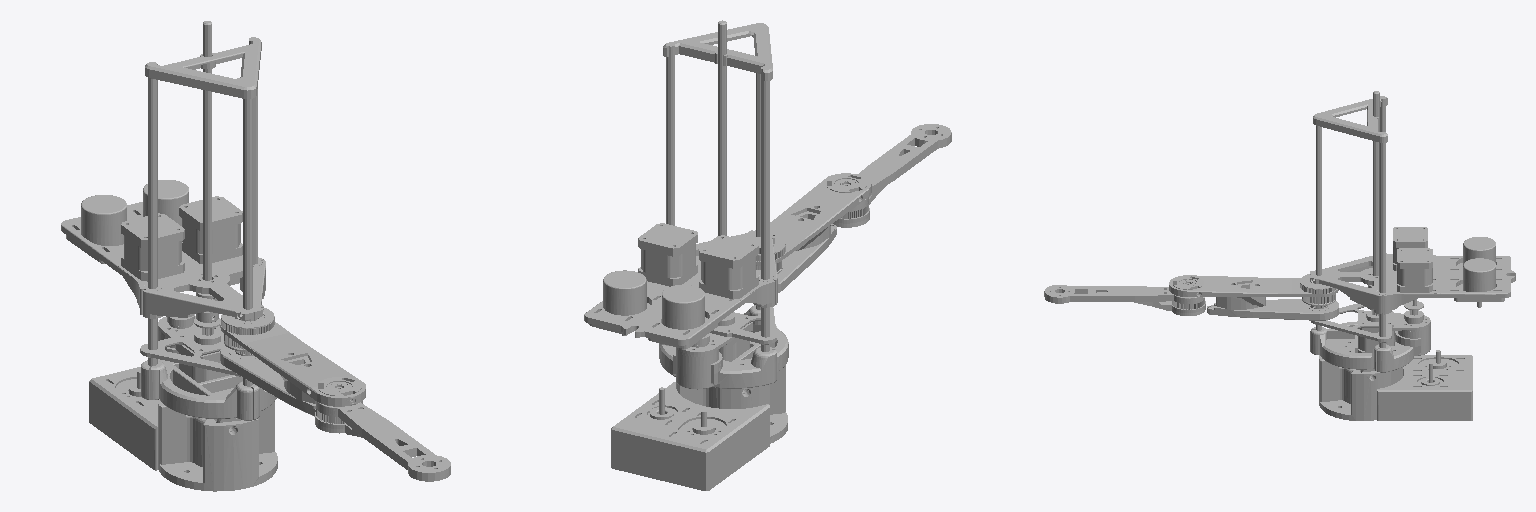
The robot description file, URDF, robot "scara4":
<?xml version="1.0" encoding="utf-8"?>
<!-- This URDF was automatically created by SolidWorks to URDF Exporter! Originally created by [author] ([email redacted]) 
     Commit Version: 1.6.0-1-g15f4949  Build Version: 1.6.7594.29634
     For more information, please see http://wiki.ros.org/sw_urdf_exporter -->
<robot
  name="scara4">
  <link
    name="link1">
    <inertial>
      <origin
        xyz="0.00134256641145745 0.0268120790873557 -0.0397924813753879"
        rpy="0 0 0" />
      <mass
        value="0.333965027627055" />
      <inertia
        ixx="0.00024437961424315"
        ixy="-2.70691571933329E-07"
        ixz="6.65938217240934E-07"
        iyy="0.000362442658167423"
        iyz="3.14489465239985E-07"
        izz="0.000246720965790898" />
    </inertial>
    <visual>
      <origin
        xyz="0 0 0"
        rpy="0 0 0" />
      <geometry>
        <mesh
          filename="package://scara4/meshes/link1.STL" />
      </geometry>
      <material
        name="">
        <color
          rgba="0.752941176470588 0.752941176470588 0.752941176470588 1" />
      </material>
    </visual>
    <collision>
      <origin
        xyz="0 0 0"
        rpy="0 0 0" />
      <geometry>
        <mesh
          filename="package://scara4/meshes/link1.STL" />
      </geometry>
    </collision>
  </link>
  <link
    name="link2">
    <inertial>
      <origin
        xyz="0.000219070401410481 0.082554065645283 0.0156932502112004"
        rpy="0 0 0" />
      <mass
        value="0.341833276422222" />
      <inertia
        ixx="0.000601222703206643"
        ixy="-2.75837561186006E-07"
        ixz="5.92153662104969E-07"
        iyy="0.000316649240889944"
        iyz="-2.03450902493644E-06"
        izz="0.00060053198390385" />
    </inertial>
    <visual>
      <origin
        xyz="0 0 0"
        rpy="0 0 0" />
      <geometry>
        <mesh
          filename="package://scara4/meshes/link2.STL" />
      </geometry>
      <material
        name="">
        <color
          rgba="0.752941176470588 0.752941176470588 0.752941176470588 1" />
      </material>
    </visual>
    <collision>
      <origin
        xyz="0 0 0"
        rpy="0 0 0" />
      <geometry>
        <mesh
          filename="package://scara4/meshes/link2.STL" />
      </geometry>
    </collision>
  </link>
  <joint
    name="joint1"
    type="continuous">
    <origin
      xyz="0 0 0.0408"
      rpy="1.5708 0 3.1416" />
    <parent
      link="link1" />
    <child
      link="link2" />
    <axis
      xyz="0 1 0" />
  </joint>
  <link
    name="link3">
    <inertial>
      <origin
        xyz="-0.000113401252194737 0.0339295858638425 0.0633738369323234"
        rpy="0 0 0" />
      <mass
        value="0.349496704950288" />
      <inertia
        ixx="0.000408165235585055"
        ixy="-5.40308089541596E-07"
        ixz="-1.79850928558629E-06"
        iyy="0.000539133104321668"
        iyz="-8.69432622399406E-06"
        izz="0.000156212046475738" />
    </inertial>
    <visual>
      <origin
        xyz="0 0 0"
        rpy="0 0 0" />
      <geometry>
        <mesh
          filename="package://scara4/meshes/link3.STL" />
      </geometry>
      <material
        name="">
        <color
          rgba="0.752941176470588 0.752941176470588 0.752941176470588 1" />
      </material>
    </visual>
    <collision>
      <origin
        xyz="0 0 0"
        rpy="0 0 0" />
      <geometry>
        <mesh
          filename="package://scara4/meshes/link3.STL" />
      </geometry>
    </collision>
  </link>
  <joint
    name="joint2"
    type="prismatic">
    <origin
      xyz="-4.5017E-05 0.097592 0.017"
      rpy="0 0 0" />
    <parent
      link="link2" />
    <child
      link="link3" />
    <axis
      xyz="0 1 0" />
    <limit
      lower="0"
      upper="0"
      effort="0"
      velocity="0" />
  </joint>
  <link
    name="link4">
    <inertial>
      <origin
        xyz="3.62903793402024E-05 -0.000974279847565318 -0.0572628879918167"
        rpy="0 0 0" />
      <mass
        value="0.132586780122943" />
      <inertia
        ixx="0.000228708978235185"
        ixy="-2.42790930369713E-10"
        ixz="3.85879878036558E-09"
        iyy="0.000238850149148551"
        iyz="9.39543532374007E-06"
        izz="2.12648166568431E-05" />
    </inertial>
    <visual>
      <origin
        xyz="0 0 0"
        rpy="0 0 0" />
      <geometry>
        <mesh
          filename="package://scara4/meshes/link4.STL" />
      </geometry>
      <material
        name="">
        <color
          rgba="0.752941176470588 0.752941176470588 0.752941176470588 1" />
      </material>
    </visual>
    <collision>
      <origin
        xyz="0 0 0"
        rpy="0 0 0" />
      <geometry>
        <mesh
          filename="package://scara4/meshes/link4.STL" />
      </geometry>
    </collision>
  </link>
  <joint
    name="joint3"
    type="continuous">
    <origin
      xyz="4.5017E-05 0 -0.067"
      rpy="0 0 0" />
    <parent
      link="link3" />
    <child
      link="link4" />
    <axis
      xyz="0 1 0" />
  </joint>
  <link
    name="link5">
    <inertial>
      <origin
        xyz="-2.31815511669881E-05 -0.00188155161511602 0.0470091350705414"
        rpy="0 0 0" />
      <mass
        value="0.0592642341472502" />
      <inertia
        ixx="6.54622289057525E-05"
        ixy="-1.36790778528406E-10"
        ixz="-5.80273254623293E-10"
        iyy="6.84736651755936E-05"
        iyz="-1.66089791588376E-06"
        izz="6.61596593344095E-06" />
    </inertial>
    <visual>
      <origin
        xyz="0 0 0"
        rpy="0 0 0" />
      <geometry>
        <mesh
          filename="package://scara4/meshes/link5.STL" />
      </geometry>
      <material
        name="">
        <color
          rgba="0.752941176470588 0.752941176470588 0.752941176470588 1" />
      </material>
    </visual>
    <collision>
      <origin
        xyz="0 0 0"
        rpy="0 0 0" />
      <geometry>
        <mesh
          filename="package://scara4/meshes/link5.STL" />
      </geometry>
    </collision>
  </link>
  <joint
    name="joint4"
    type="continuous">
    <origin
      xyz="0 0 -0.1528"
      rpy="3.1416 0 3.1416" />
    <parent
      link="link4" />
    <child
      link="link5" />
    <axis
      xyz="0 1 0" />
  </joint>
</robot>

--- Render facts (derived) ---
Views: 3 orthographic renders of the robot side by side, from view 1: azimuth 30°, elevation 25°; view 2: azimuth 150°, elevation 25°; view 3: azimuth 270°, elevation 25°.
Model scara4 with 5 links and 4 joints (3 continuous, 1 prismatic), rooted at link1, posed all joints at 0.
Links seen in each view (by area): view 1: link2, link3, link1, link4, link5; view 2: link2, link3, link1, link4, link5; view 3: link2, link3, link1, link4, link5.
Boxes of the visible links, x1,y1,x2,y2 form: link2: (140, 21, 276, 420); link3: (61, 180, 265, 320); link1: (89, 367, 277, 491); link4: (220, 308, 365, 416); link5: (315, 387, 450, 481); link2: (659, 20, 788, 389); link3: (584, 223, 777, 349); link1: (611, 365, 787, 490); link4: (756, 173, 871, 292); link5: (833, 124, 951, 227); link2: (1310, 91, 1430, 372); link3: (1310, 227, 1515, 314); link1: (1319, 350, 1472, 420); link4: (1169, 274, 1338, 320); link5: (1044, 283, 1205, 315).
Bounding box of the posed robot: 0.1184 × 0.5505 × 0.4018 m (x, y, z).
5 mesh visuals loaded from 5 distinct referenced files (5 binary STL).